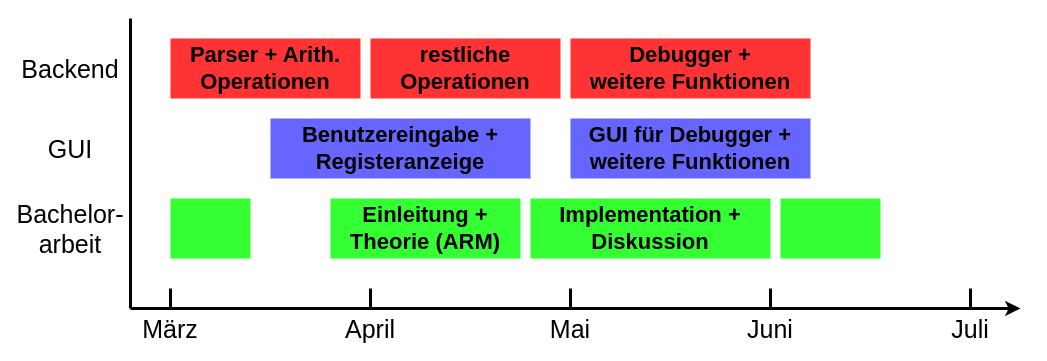
Some shapes in this 1047 by 361 pixel diagram are drawn without their labels. The shapes that lost their labels are listed below. From the top down, each one's centre as x and y in pixels, then its label:
At pixel 210 228: "Exposé".
At pixel 830 228: "Präsen- tation".
